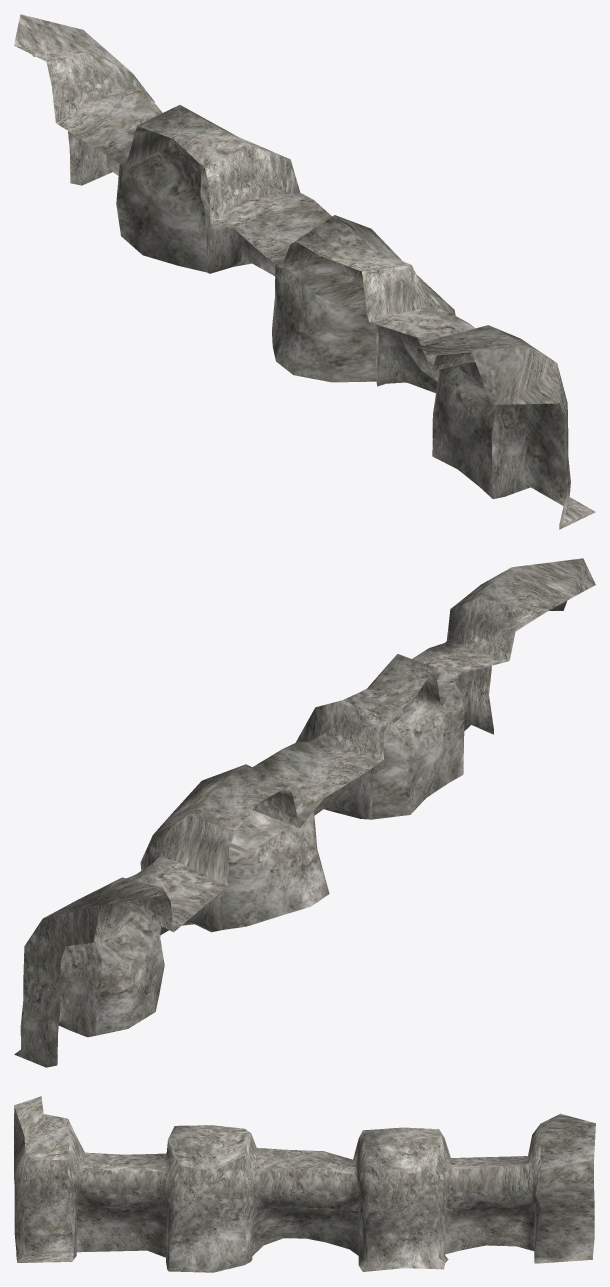
The model's file is DWARF_PALACE_WATER_ROOM_CAVEC.fbx.
3 views of the same model, one above another, from view 1: azimuth 30°, elevation 25°; view 2: azimuth 150°, elevation 25°; view 3: azimuth 270°, elevation 25° (orthographic). The views are drawn at different scales.
Parts seen in each view (by area): view 1: DWARF_PALACE_WATER_ROOM_CAVEC; view 2: DWARF_PALACE_WATER_ROOM_CAVEC; view 3: DWARF_PALACE_WATER_ROOM_CAVEC.
Boxes of the visible parts, box(x1,y1,x2,y2) form: DWARF_PALACE_WATER_ROOM_CAVEC: box(14, 14, 595, 529); DWARF_PALACE_WATER_ROOM_CAVEC: box(14, 558, 595, 1067); DWARF_PALACE_WATER_ROOM_CAVEC: box(14, 1096, 595, 1272).
Size of the model in its own units: 97079 by 106820 by 446070.
Materials: 1 (1 with a texture image).
